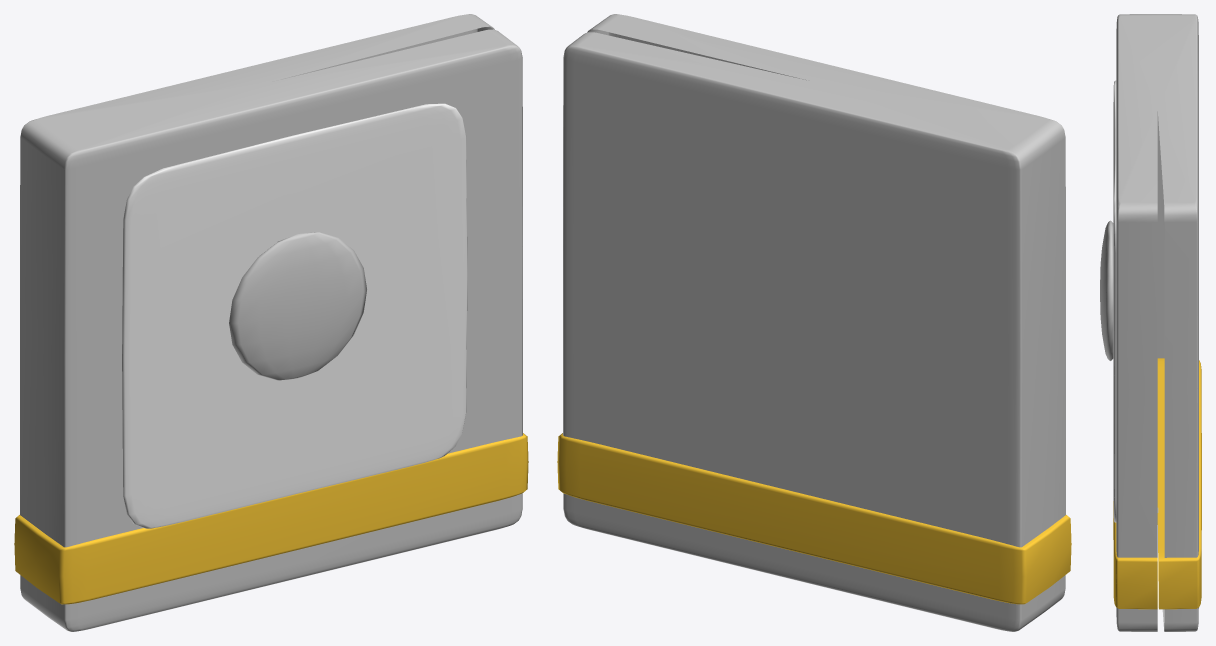
Rendered from kpop_album.fbx.
The picture shows the model from 3 angles, left to right: view 1: azimuth 30°, elevation 25°; view 2: azimuth 150°, elevation 25°; view 3: azimuth 270°, elevation 25°; orthographic projection. The views are drawn at different scales.
Parts seen in each view (by area): view 1: kpop_album; view 2: kpop_album; view 3: kpop_album.
Boxes of the visible parts, bbox=[...] form: kpop_album: bbox=[14, 14, 528, 631]; kpop_album: bbox=[557, 14, 1071, 631]; kpop_album: bbox=[1100, 14, 1201, 631].
Size of the model in its own units: 0.82 by 0.8 by 0.1725.
